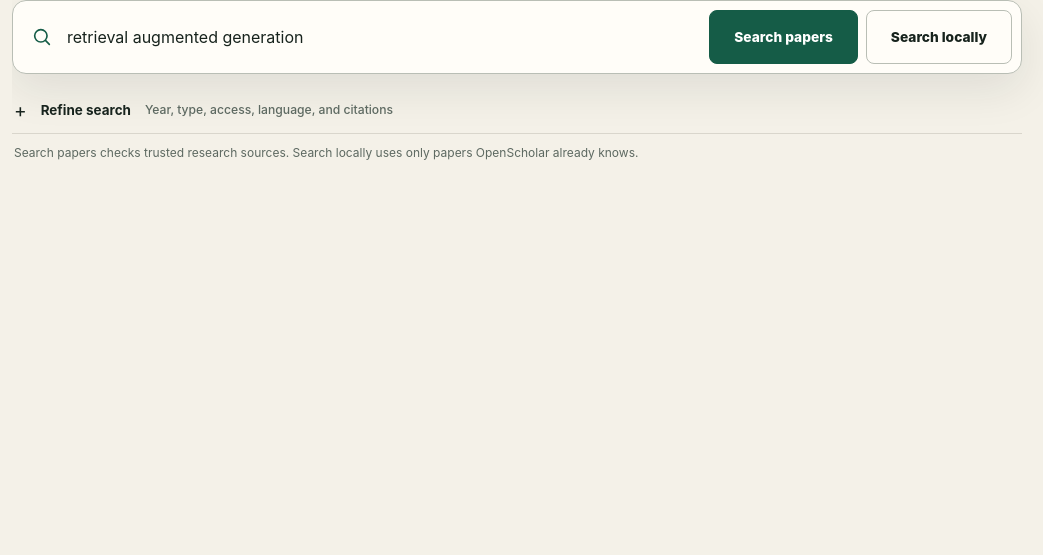
Scenario: SearchForm › rejects an inverted year range before making a request
The width and height of the screenshot is (1043, 555).
Click the heading "Refine search" at {"x": 217, "y": 110}, box [41, 102, 393, 118]
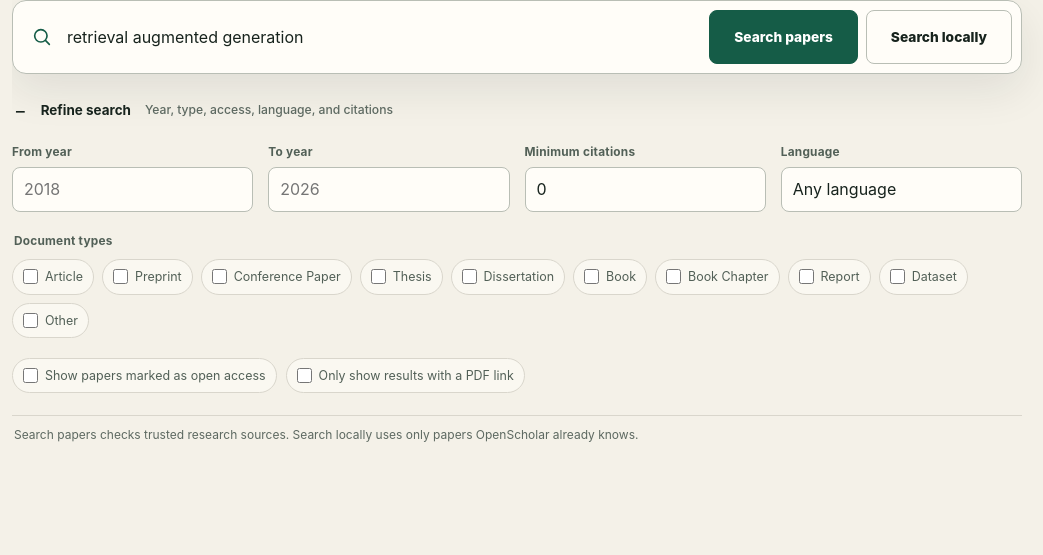
Type "2026" into the number field labelled "From year" at {"x": 133, "y": 190}, box [12, 167, 253, 212]
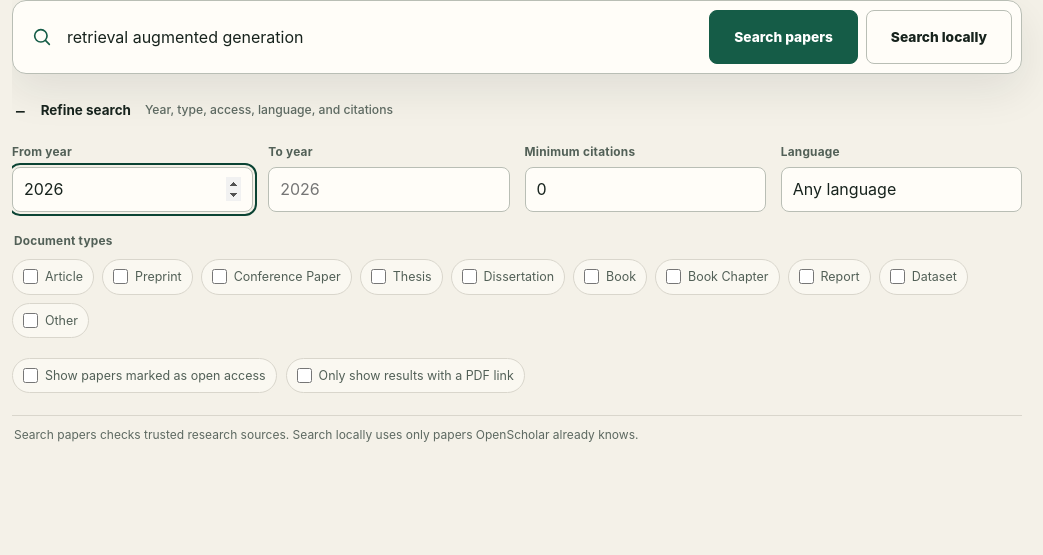
Type "2020" into the number field labelled "To year" at {"x": 389, "y": 190}, box [268, 167, 510, 212]
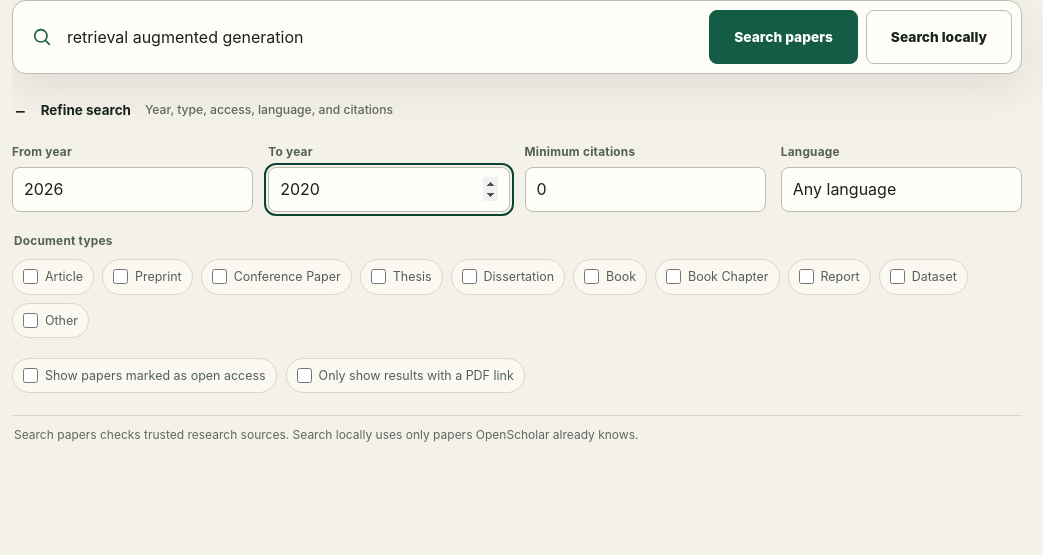
Click the button "Search papers" at {"x": 784, "y": 37}, box [709, 10, 858, 64]
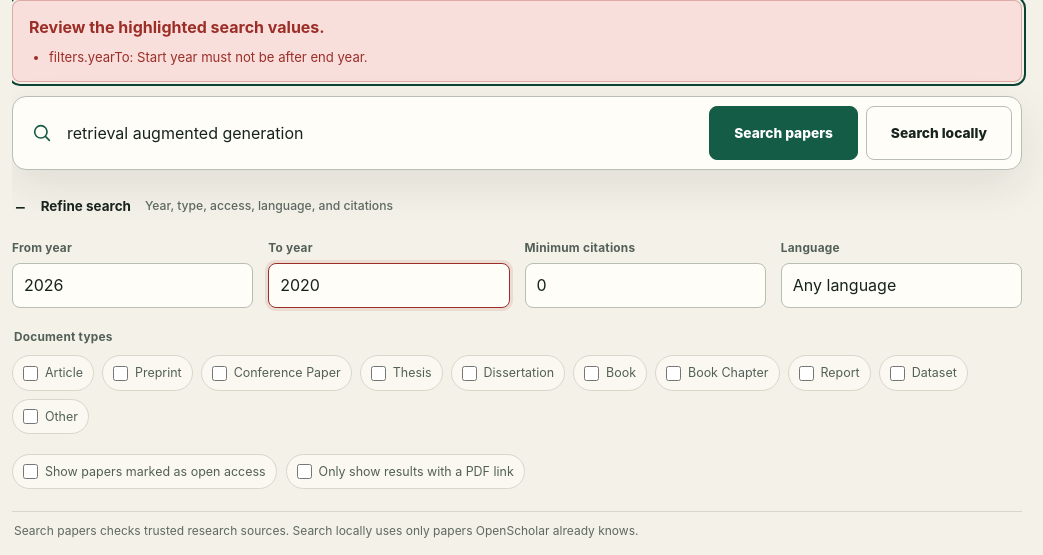
Expected: the message shows "Review the highlighted search values.", [29, 17, 325, 37]
Expected: the message shows "filters.yearTo:", [49, 49, 368, 65]
Expected: the message shows "Start year must not be after end year.", [49, 49, 368, 65]
